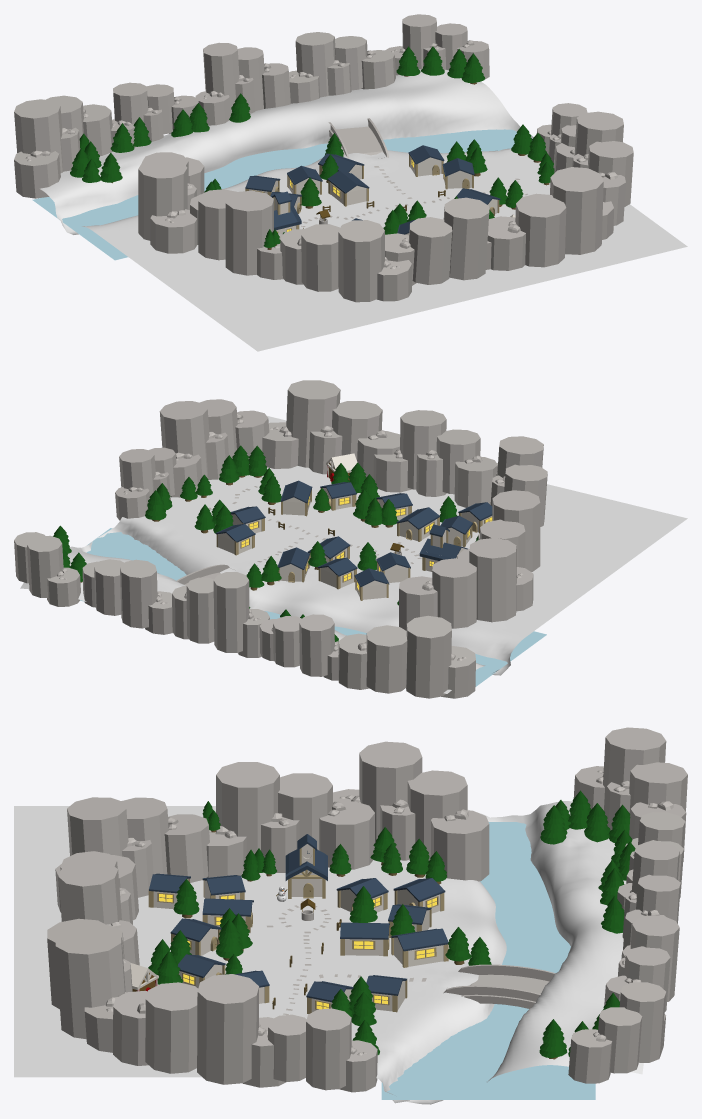
The model's file is vilage.glb.
The picture shows the model from 3 angles, top to bottom: view 1: azimuth 30°, elevation 25°; view 2: azimuth 150°, elevation 25°; view 3: azimuth 270°, elevation 25°; orthographic projection. The views are drawn at different scales.
Parts seen in each view (by area): view 1: Plane, Cylinder.003, Cylinder.001, Cylinder.014, Plane.001, Cylinder.002, Cylinder.004, Cylinder.009, Cylinder.011, Cylinder.012, Cylinder.007, Cylinder.013 (+3 smaller); view 2: Plane, Cylinder.014, Cylinder.003, Cylinder.009, Cylinder.002, Cylinder.007, Cylinder.012, Cylinder.011, Cylinder.013, Cylinder.010, Cylinder.004, Cylinder.008 (+6 smaller); view 3: Plane, Plane.001, Cylinder.007, Cylinder.004, Cylinder.009, Cylinder.001, Cylinder.003, Cylinder.014, Cylinder.008, Cylinder.010, Cylinder.002, Cylinder.012 (+27 smaller).
Part boxes in pixels (x1,y1,x2,y2): Plane: [40, 69, 687, 351]; Cylinder.003: [487, 167, 613, 270]; Cylinder.001: [280, 220, 411, 302]; Cylinder.014: [14, 95, 112, 198]; Plane.001: [32, 129, 533, 260]; Cylinder.002: [385, 197, 491, 285]; Cylinder.004: [190, 189, 283, 279]; Cylinder.009: [138, 152, 204, 253]; Cylinder.011: [289, 32, 395, 103]; Cylinder.012: [195, 42, 290, 125]; Cylinder.007: [554, 111, 633, 225]; Cylinder.013: [111, 82, 198, 151]; Plane: [20, 416, 687, 693]; Cylinder.014: [338, 615, 475, 698]; Cylinder.003: [262, 380, 400, 478]; Cylinder.009: [399, 538, 533, 630]; Cylinder.002: [373, 410, 497, 507]; Cylinder.007: [159, 399, 269, 497]; Cylinder.012: [172, 572, 269, 657]; Cylinder.011: [82, 559, 172, 634]; Cylinder.013: [259, 614, 338, 680]; Cylinder.010: [14, 532, 80, 606]; Cylinder.004: [457, 490, 540, 571]; Cylinder.008: [115, 447, 178, 520]; Plane: [14, 801, 643, 1104]; Plane.001: [381, 822, 595, 1099]; Cylinder.007: [113, 974, 286, 1087]; Cylinder.004: [206, 762, 374, 877]; Cylinder.009: [333, 741, 489, 881]; Cylinder.001: [55, 797, 209, 912]; Cylinder.003: [47, 918, 132, 1052]; Cylinder.014: [573, 727, 687, 861]; Cylinder.008: [264, 1008, 377, 1092]; Cylinder.010: [568, 982, 666, 1083]; Cylinder.002: [58, 851, 139, 965]; Cylinder.012: [617, 842, 680, 949].
Size of the model in its own units: 312 by 68.65 by 303.
Materials: 16 (2 with a texture image).
